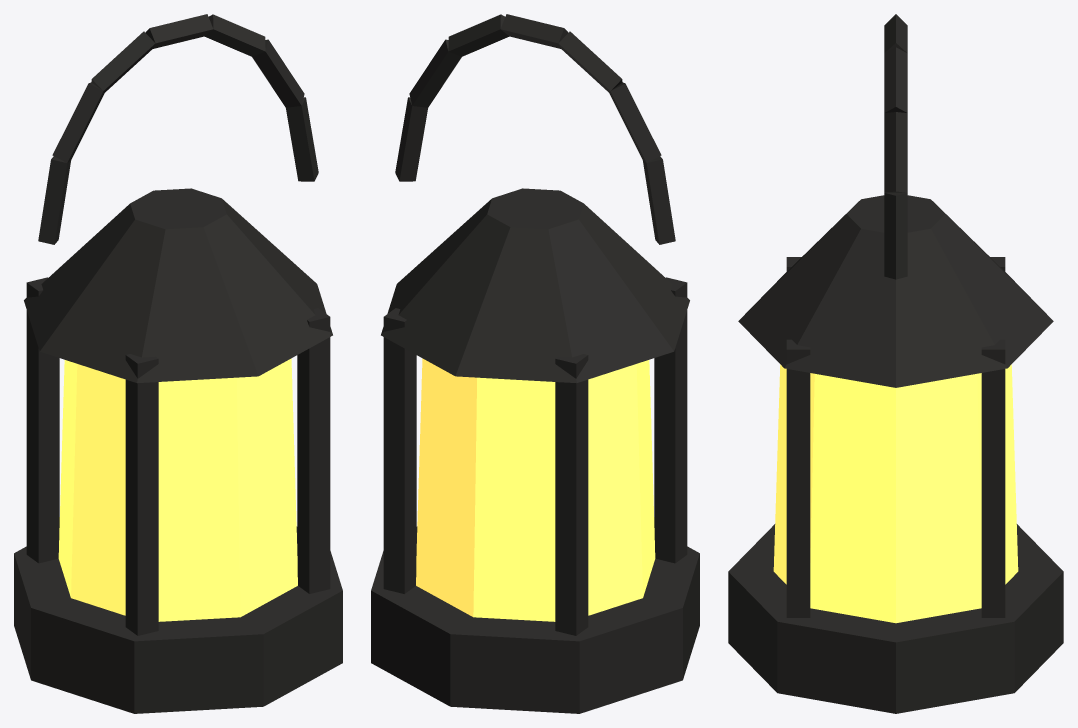
Rendered from lantern.glb.
The picture shows the model from 3 angles, left to right: view 1: azimuth 30°, elevation 25°; view 2: azimuth 150°, elevation 25°; view 3: azimuth 270°, elevation 25°; orthographic projection.
Visible parts, largest first — view 1: lantern; view 2: lantern; view 3: lantern.
Part boxes in pixels (bbox=[...]): lantern: bbox=[14, 14, 342, 713]; lantern: bbox=[371, 14, 699, 713]; lantern: bbox=[728, 14, 1063, 713].
Size of the model in its own units: 0.17 by 0.3435 by 0.17.
